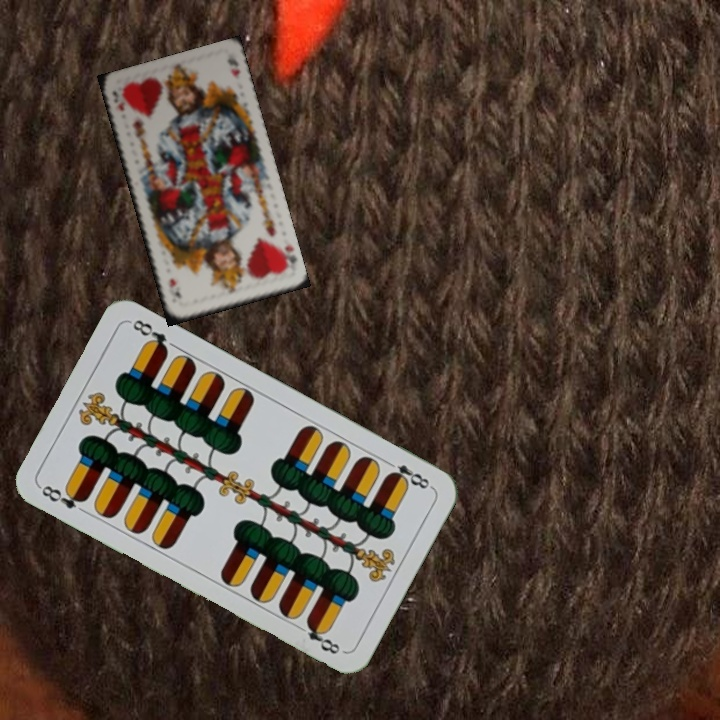E8: (381, 456, 435, 492), (36, 481, 90, 512)
HK: (274, 240, 299, 273), (108, 87, 128, 113)
